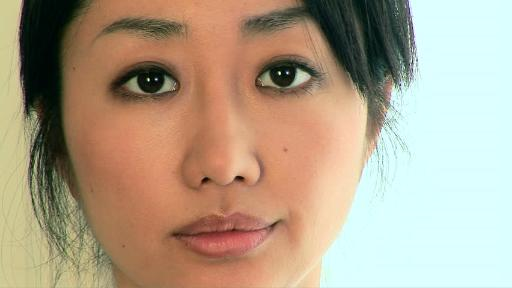left_eye: (255, 64, 322, 94)
left_lip_corner: (267, 216, 291, 230)
right_eye: (109, 67, 182, 100)
right_lip_corner: (163, 228, 190, 242)
